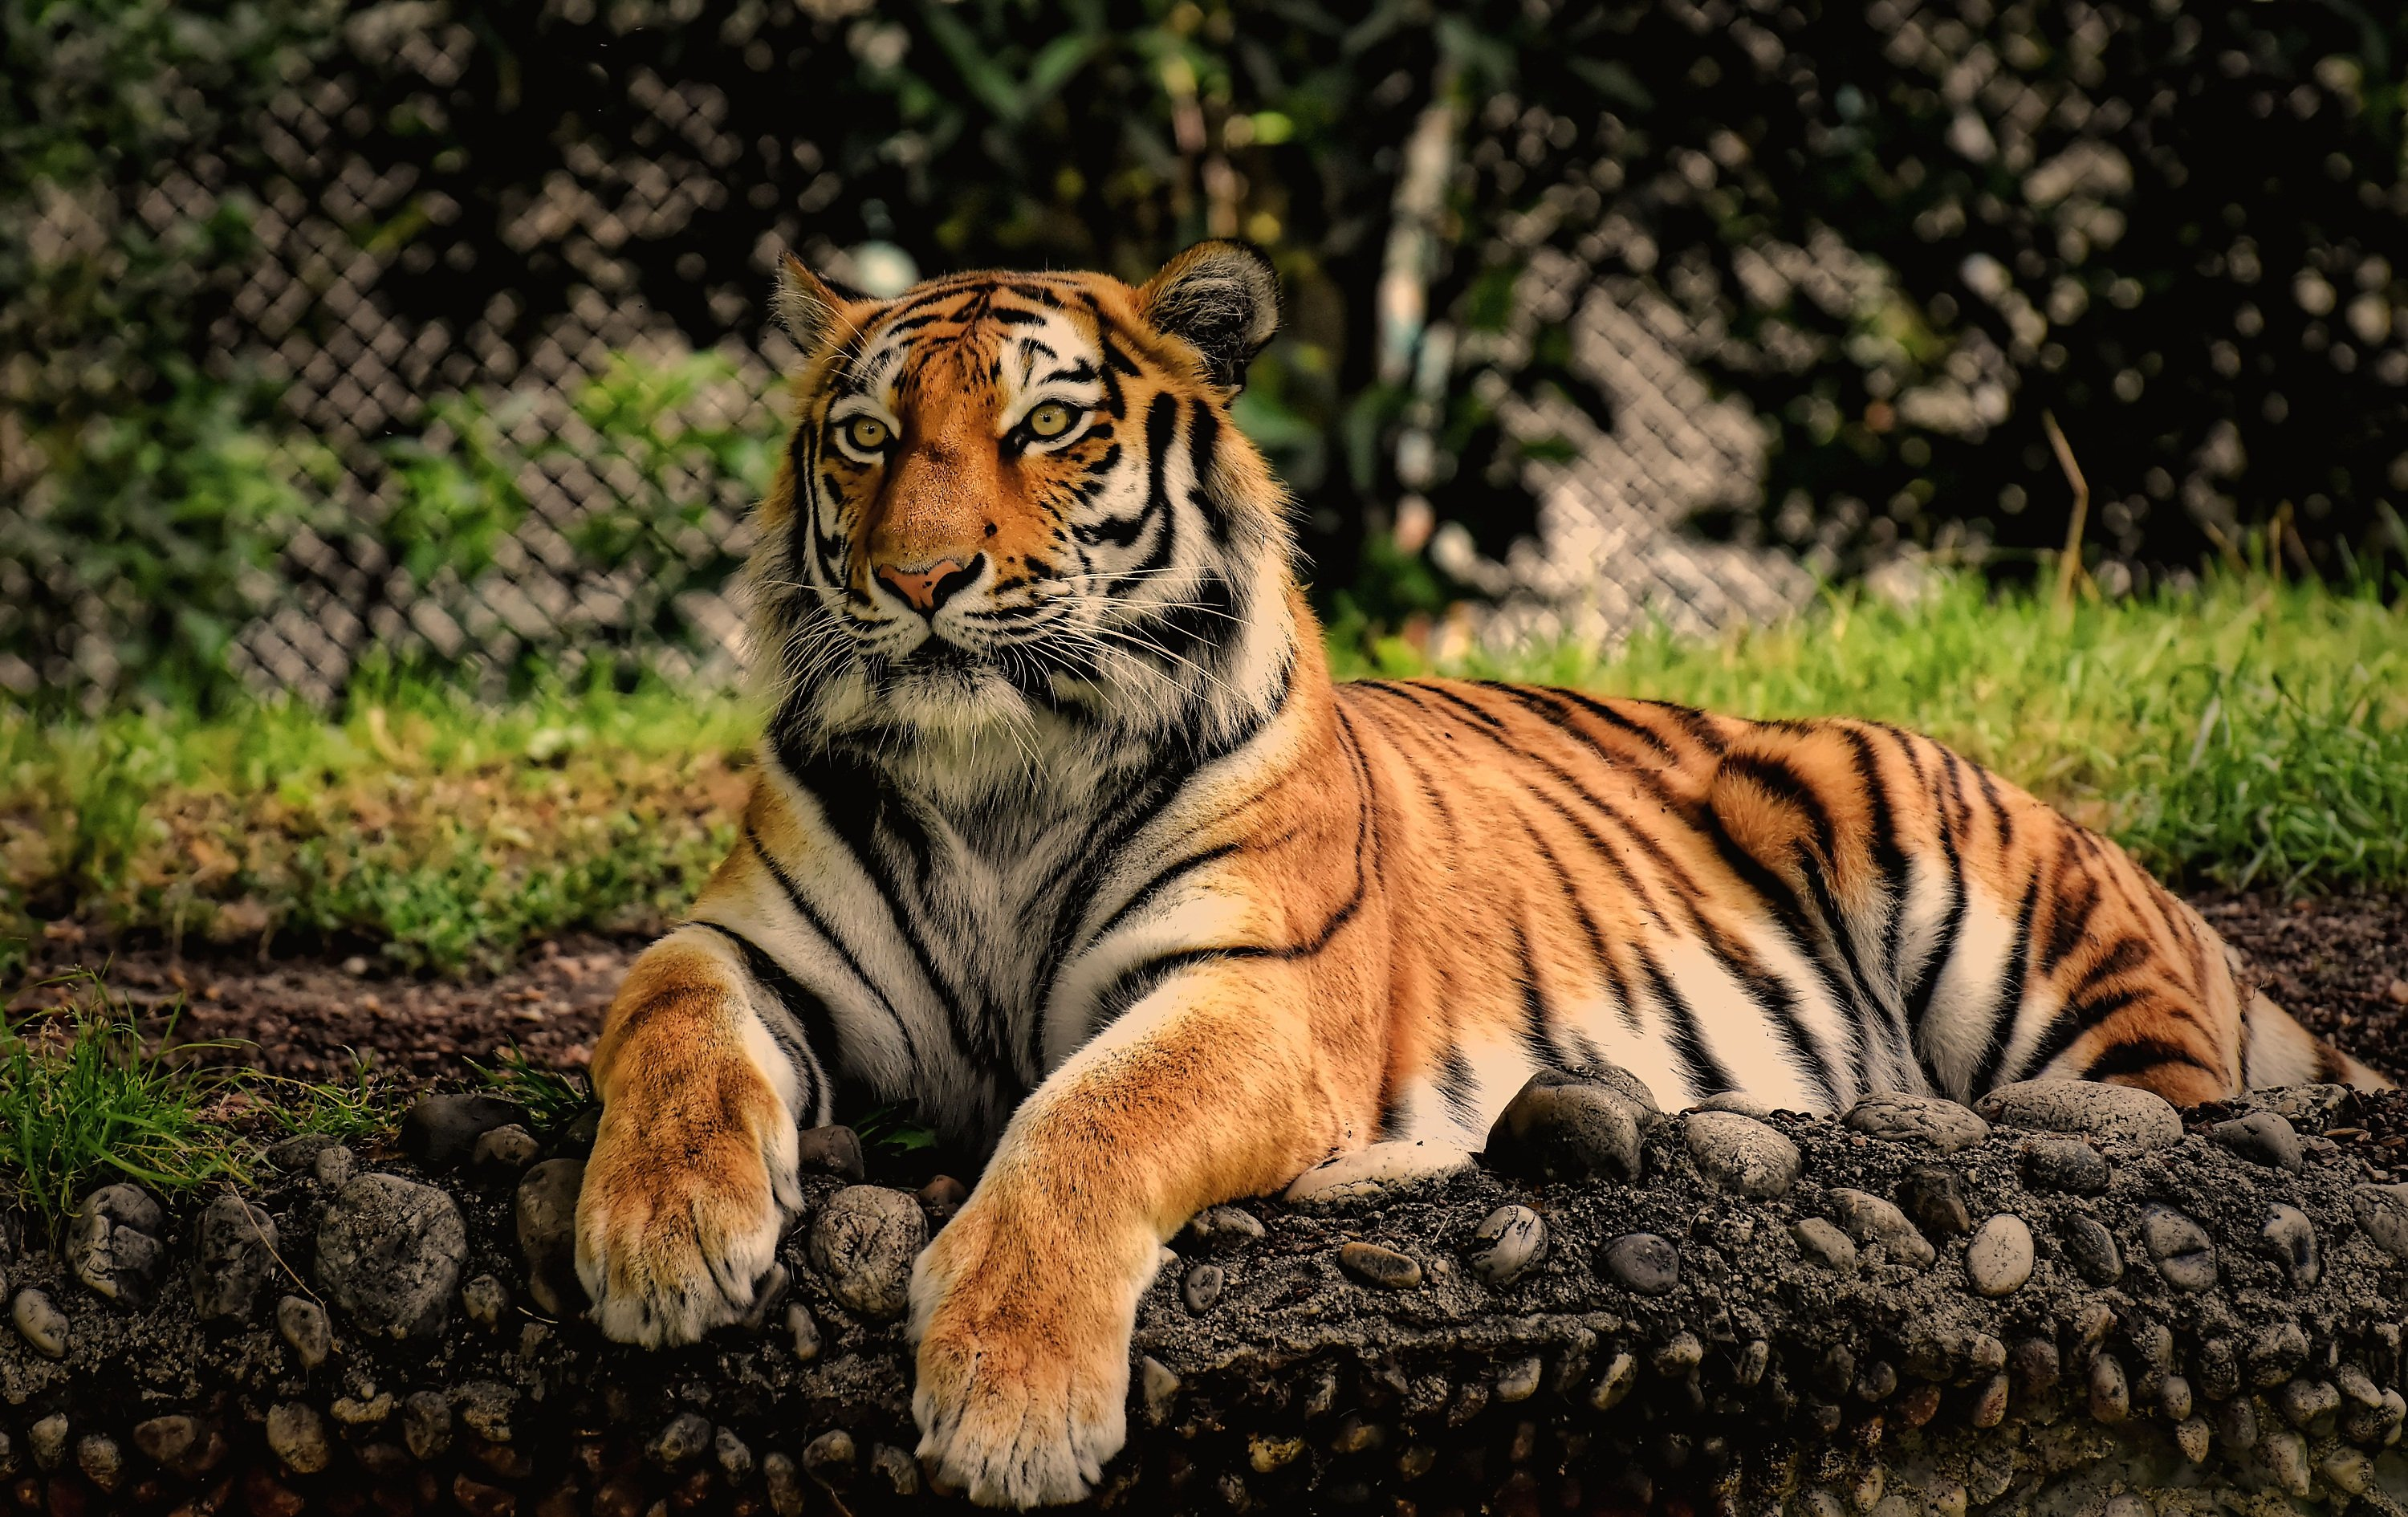tiger: (608, 259, 2322, 1320)
